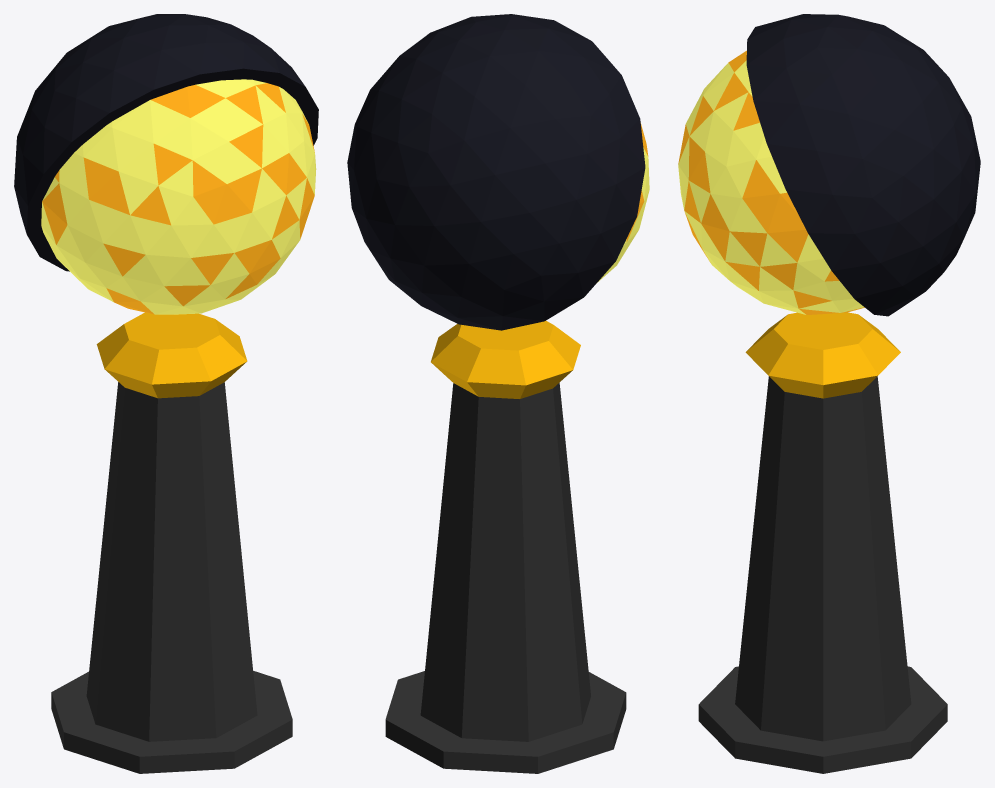
The model's file is MoonTower_Action_Moon.glb.
3 renders of one model, left to right at view 1: azimuth 30°, elevation 25°; view 2: azimuth 150°, elevation 25°; view 3: azimuth 270°, elevation 25°, orthographic.
Visible parts, largest first — view 1: MoonTower_Action_MoonBase, MoonTower_Action_MoonLight, MoonTower_Action_MoonDark; view 2: MoonTower_Action_MoonDark, MoonTower_Action_MoonBase, MoonTower_Action_MoonLight; view 3: MoonTower_Action_MoonBase, MoonTower_Action_MoonDark, MoonTower_Action_MoonLight.
Boxes of the visible parts, left/top/right/bottom form: MoonTower_Action_MoonBase: left=51, top=312, right=292, bottom=773; MoonTower_Action_MoonLight: left=41, top=79, right=316, bottom=314; MoonTower_Action_MoonDark: left=14, top=14, right=318, bottom=271; MoonTower_Action_MoonDark: left=347, top=14, right=645, bottom=330; MoonTower_Action_MoonBase: left=385, top=321, right=626, bottom=773; MoonTower_Action_MoonLight: left=596, top=123, right=649, bottom=283; MoonTower_Action_MoonBase: left=698, top=312, right=947, bottom=773; MoonTower_Action_MoonDark: left=746, top=14, right=980, bottom=316; MoonTower_Action_MoonLight: left=678, top=50, right=864, bottom=314.
Bounding box in the file's own units: 3.6 × 8.68 × 3.43.
2 materials, 2 textured.
